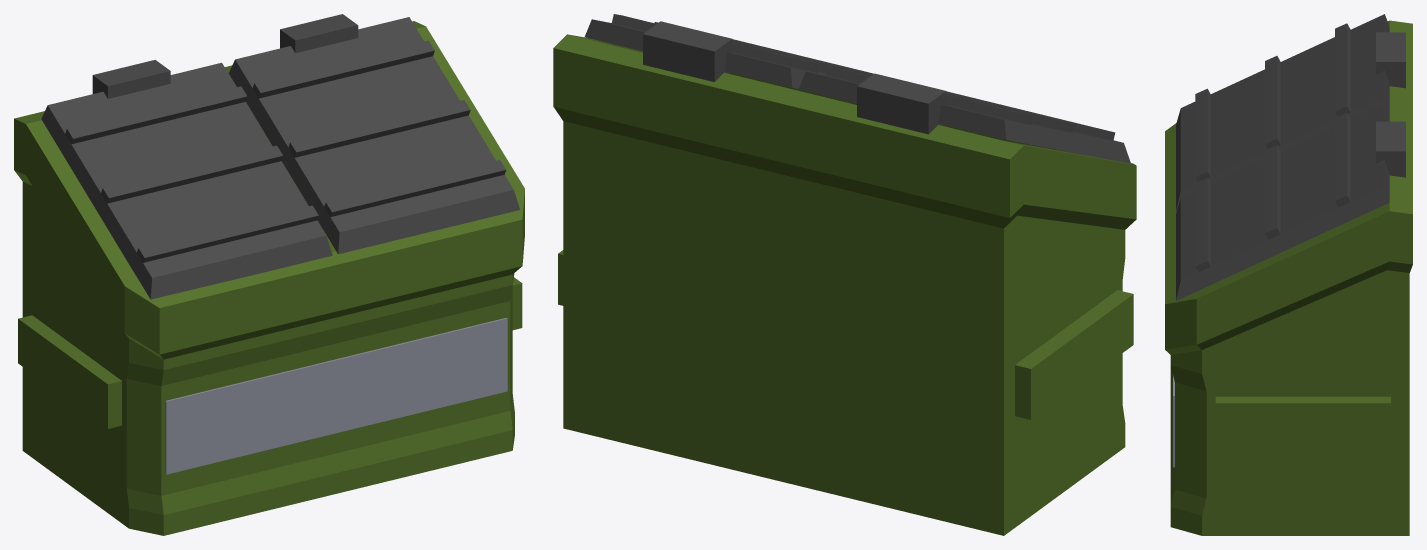
The model's file is TrashContainer.gltf.
The picture shows the model from 3 angles, left to right: view 1: azimuth 30°, elevation 25°; view 2: azimuth 150°, elevation 25°; view 3: azimuth 270°, elevation 25°; orthographic projection. The views are drawn at different scales.
Visible parts, largest first — view 1: TrashContainer; view 2: TrashContainer; view 3: TrashContainer.
Boxes of the visible parts, x1=… form: TrashContainer: x1=14, y1=14, x2=524, y2=535; TrashContainer: x1=553, y1=14, x2=1136, y2=535; TrashContainer: x1=1165, y1=14, x2=1412, y2=535.
Bounding box in the file's own units: 2.44 × 2.03 × 1.3.
